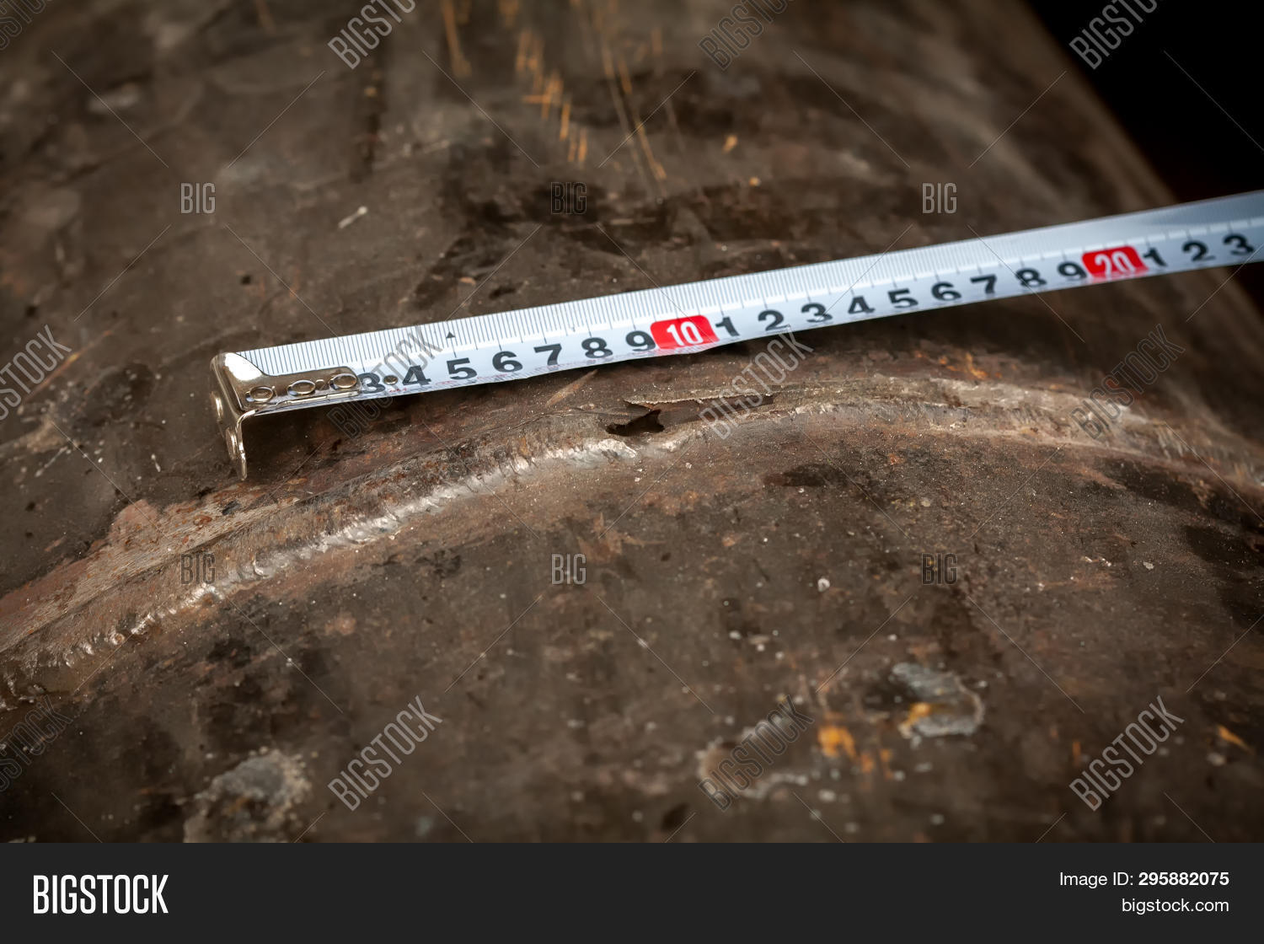hole: (597, 394, 684, 455)
